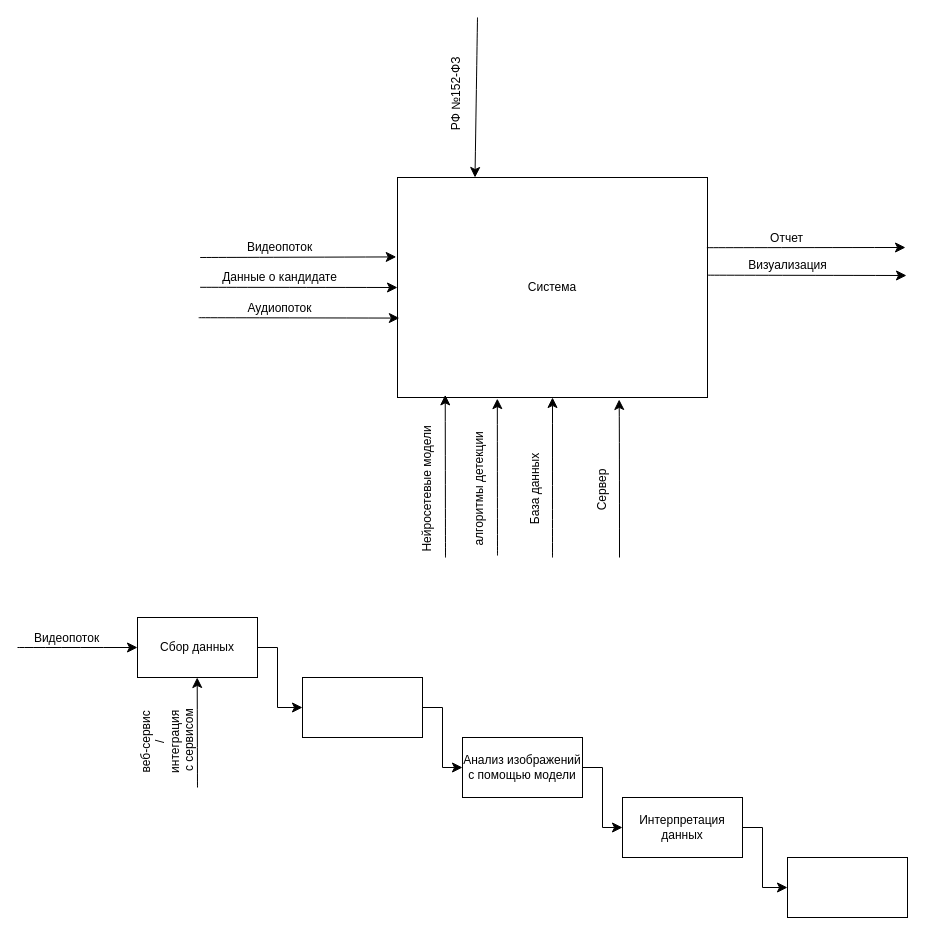
The diagram is 925 pixels wide and 935 high, and some of its shapes have lost their labels. The shapes that lost their labels are listed below. From the top down, each one's centre as x and y in pixels, then its label:
At pixel 362 707: "Обработка изображений".
At pixel 847 887: "Хранение результатов и формирование отчета".
